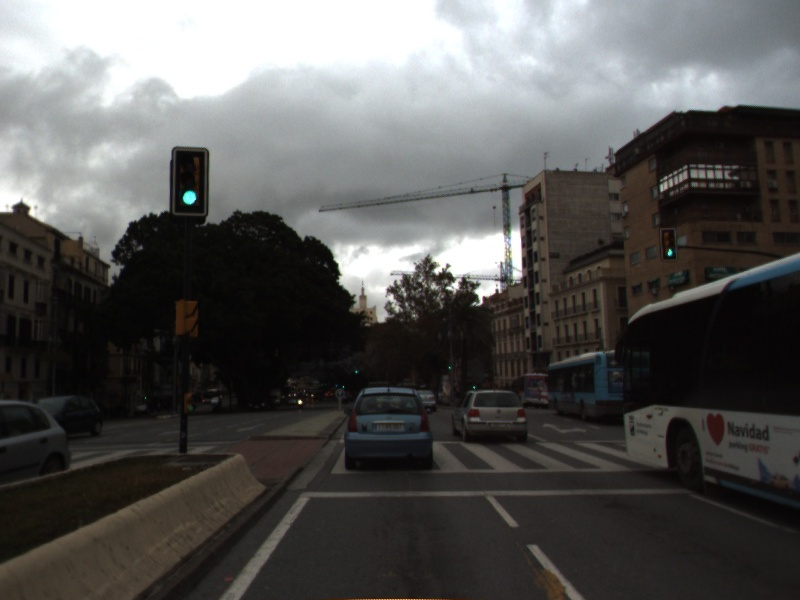STRAIGHT_RIGHT: (540, 420, 589, 437)
